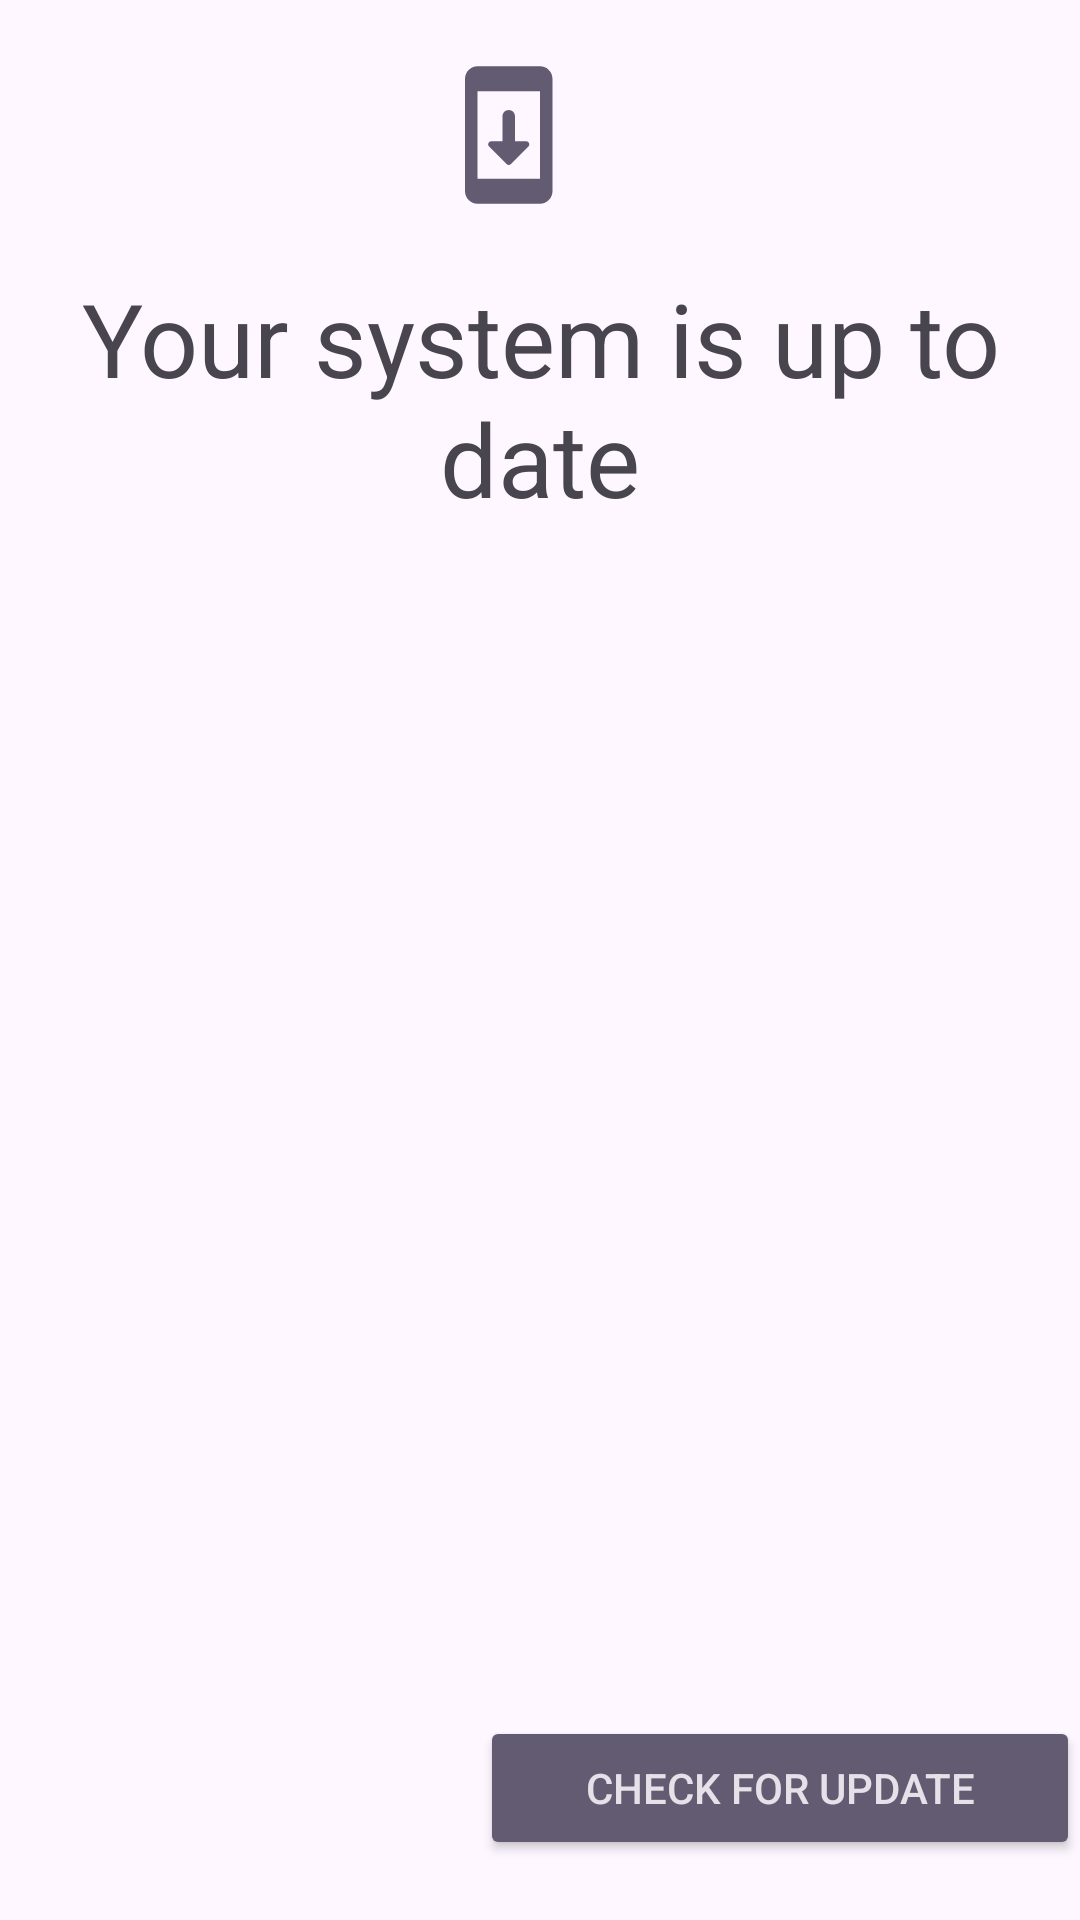

Point at icon controls on the screen. Image size 1080px×1920px, points as (x=x, y=y).
system update: (x=509, y=135)
